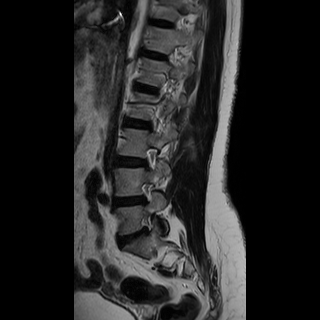RFS0: (131, 176, 158, 211), (137, 143, 162, 174)
RFS1: (135, 210, 159, 238)
